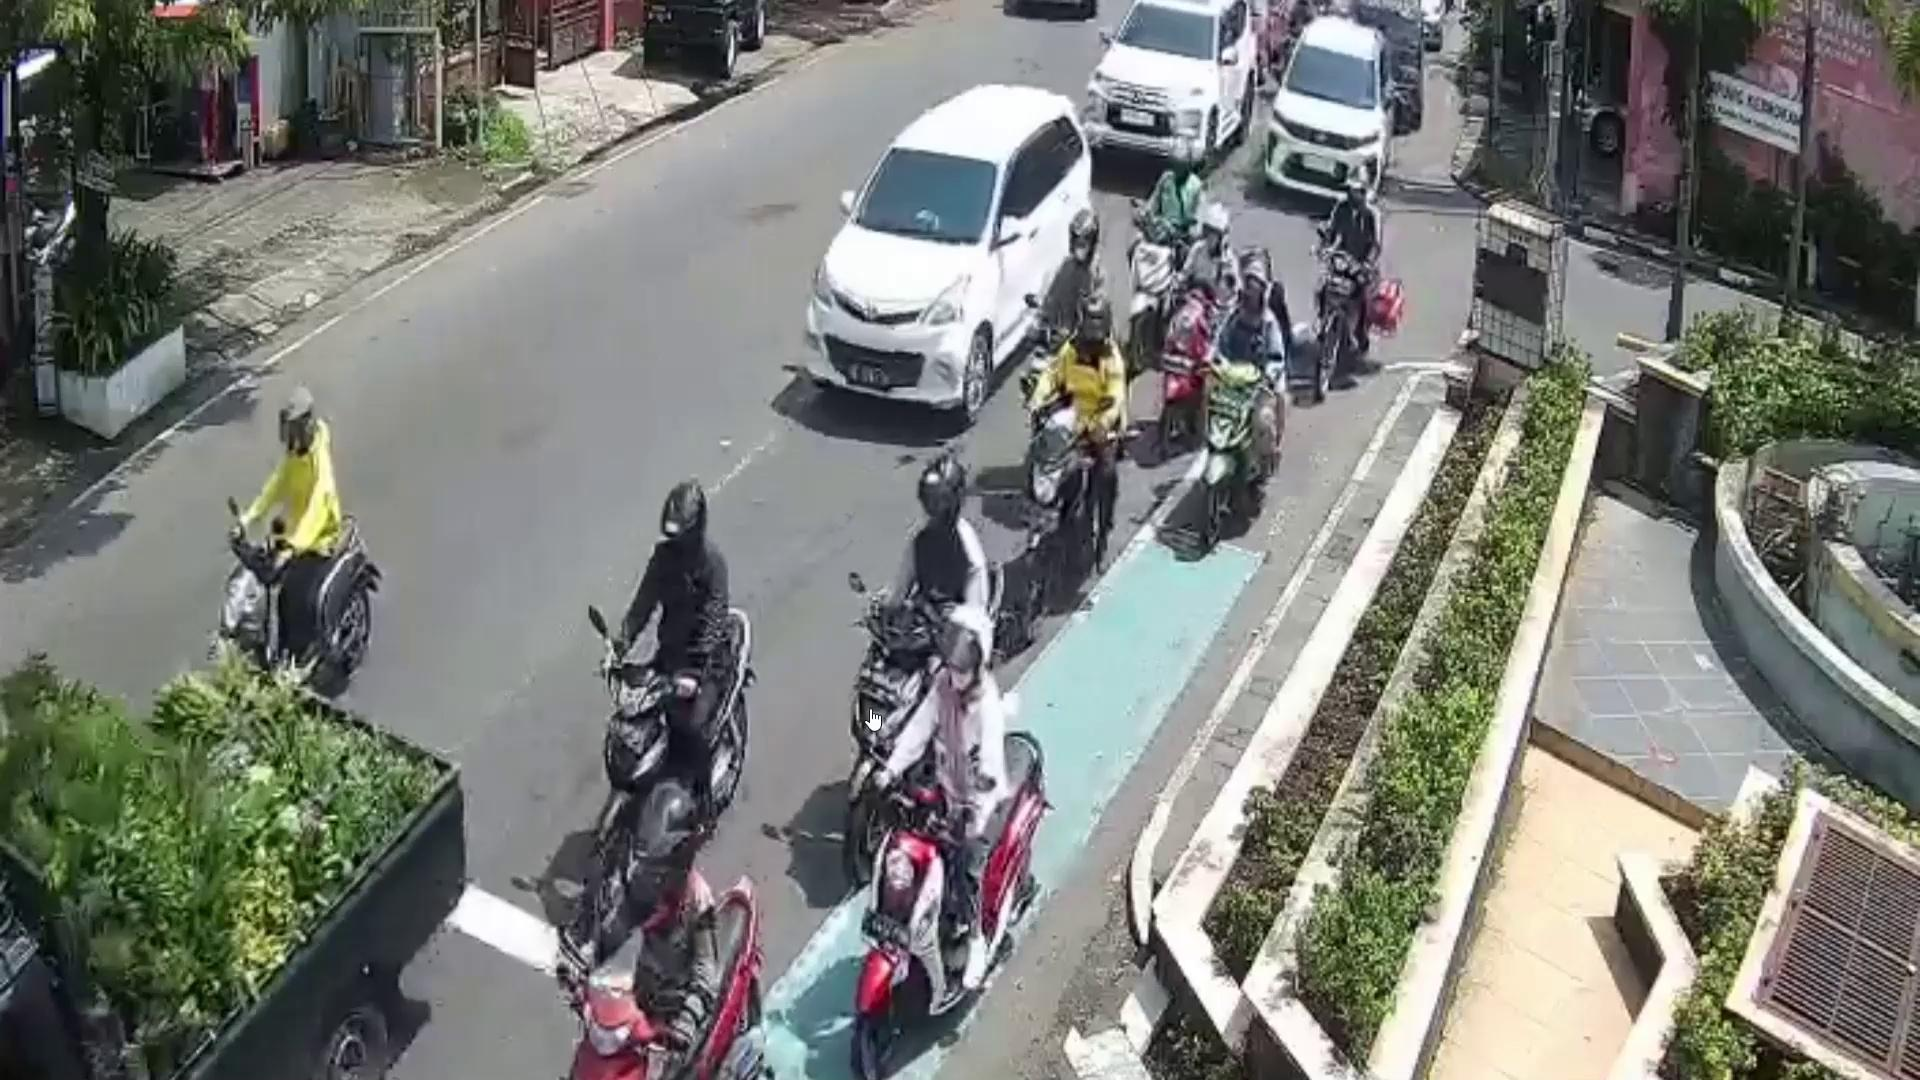car: (0, 676, 464, 1080), (800, 84, 1096, 427), (1073, 0, 1261, 179), (1262, 20, 1399, 202)
motorbike: (852, 728, 1043, 1080), (564, 872, 775, 1080), (843, 560, 1005, 823), (604, 601, 754, 852), (223, 508, 369, 695), (1025, 427, 1121, 645), (1204, 355, 1255, 545), (1316, 244, 1375, 396)
